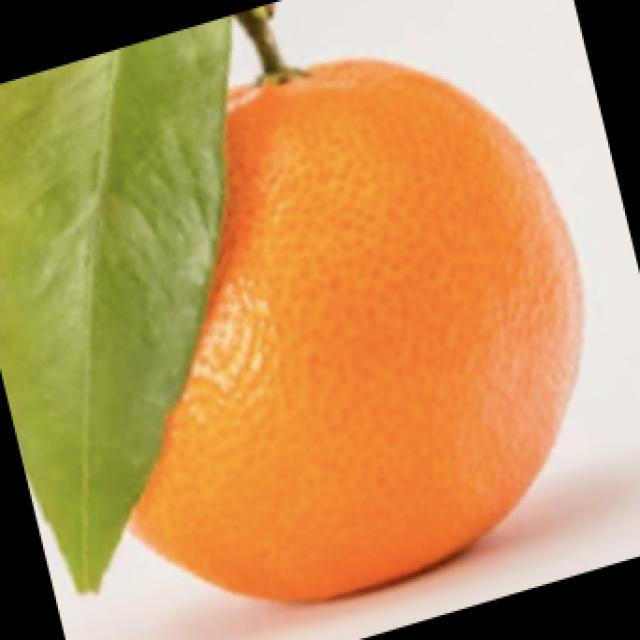matang: (135, 59, 582, 602)
